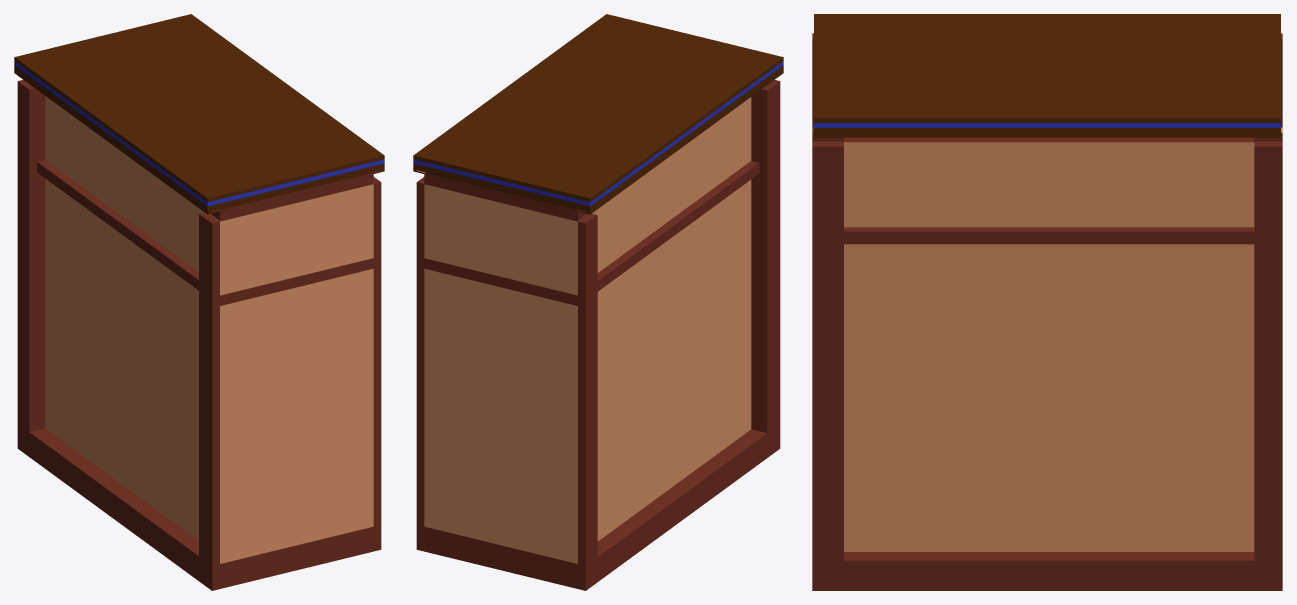
File: wall_material.fbx
3 views of the same model, side by side, from view 1: azimuth 30°, elevation 25°; view 2: azimuth 150°, elevation 25°; view 3: azimuth 270°, elevation 25° (orthographic). The views are drawn at different scales.
Visible parts, largest first — view 1: Cube, Cube.001; view 2: Cube, Cube.001; view 3: Cube, Cube.001.
Part boxes in pixels (bbox=[...]): Cube: bbox=[17, 80, 381, 590]; Cube.001: bbox=[14, 14, 384, 214]; Cube: bbox=[416, 80, 780, 590]; Cube.001: bbox=[413, 14, 783, 214]; Cube: bbox=[812, 33, 1282, 590]; Cube.001: bbox=[814, 14, 1280, 137].
Bounding box in the file's own units: 230 × 488 × 438.
